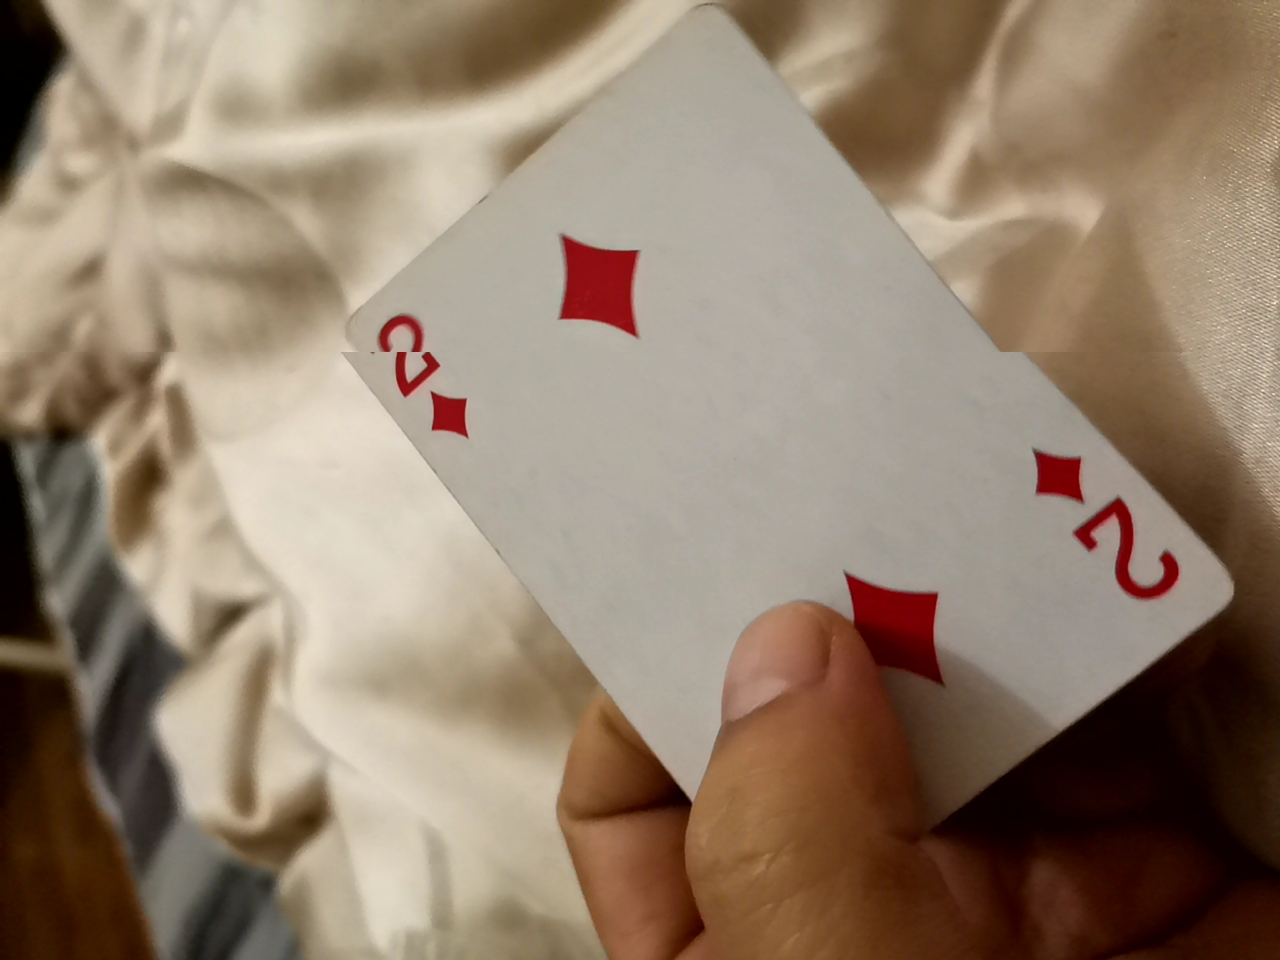fk 2: (299, 24, 1214, 896)
